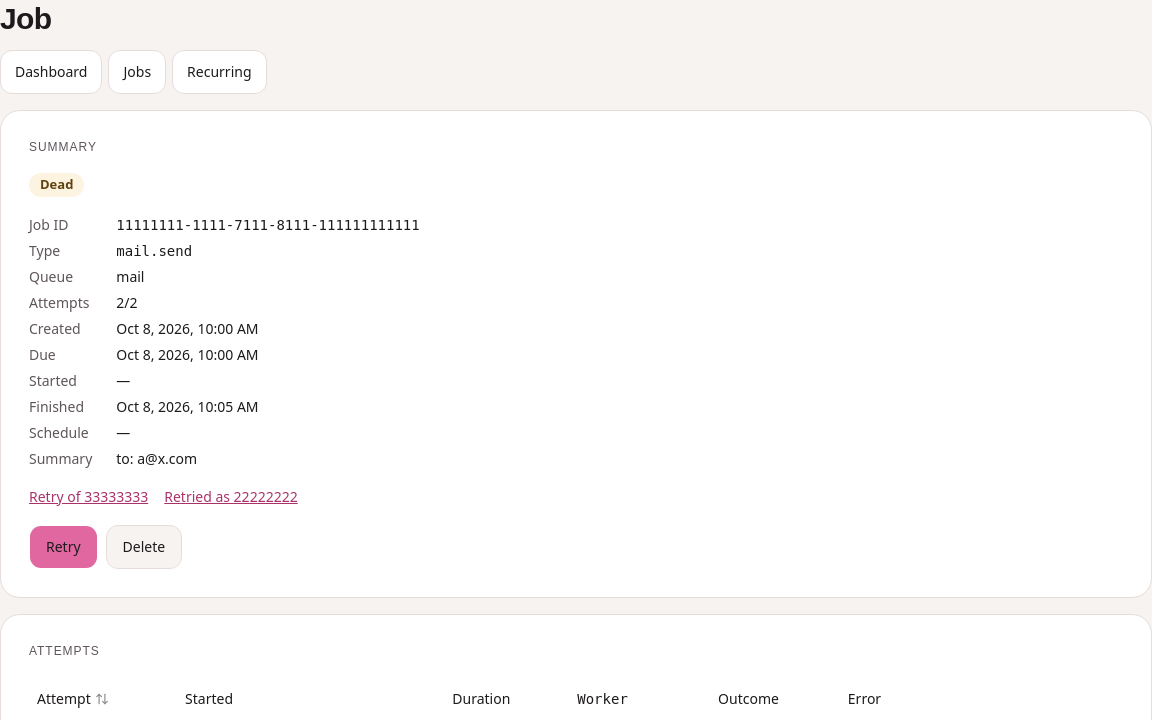
retries after confirmation and opens the new job
Click the button "Retry": (63, 546) x1=29 y1=524 x2=98 y2=568
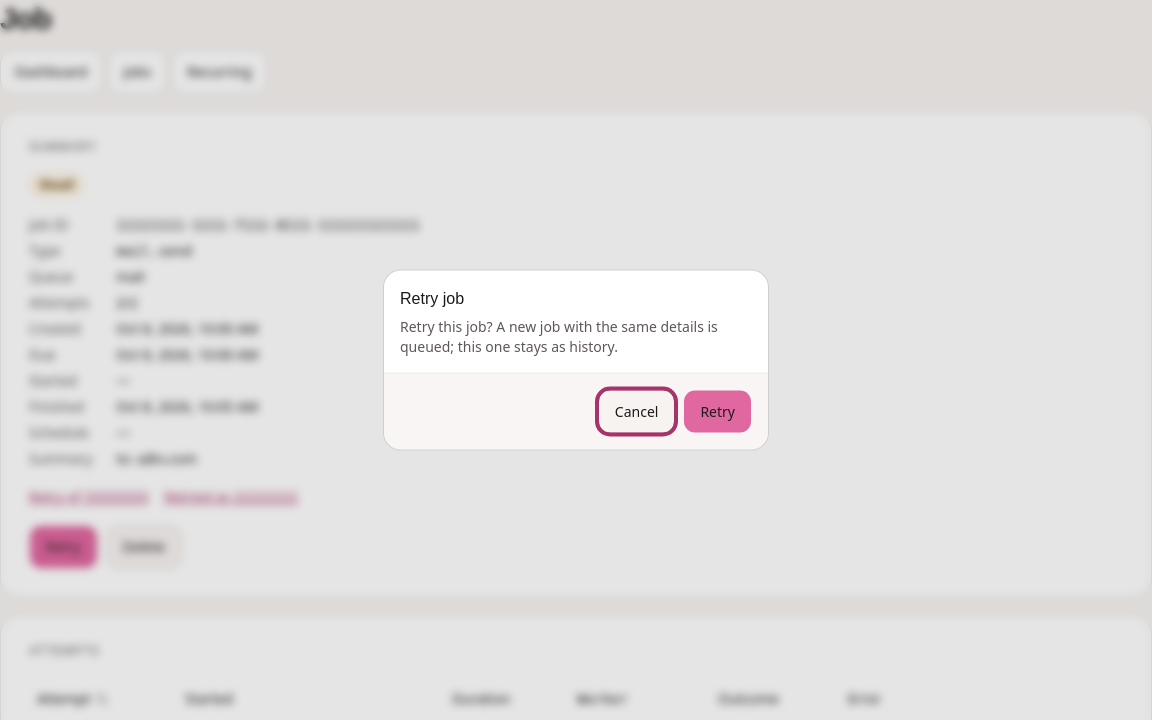
Result: the text "A new job with the same details is queued" is shown at x1=400 y1=316 x2=718 y2=356
Click the button "Retry": (718, 412) x1=683 y1=390 x2=752 y2=434
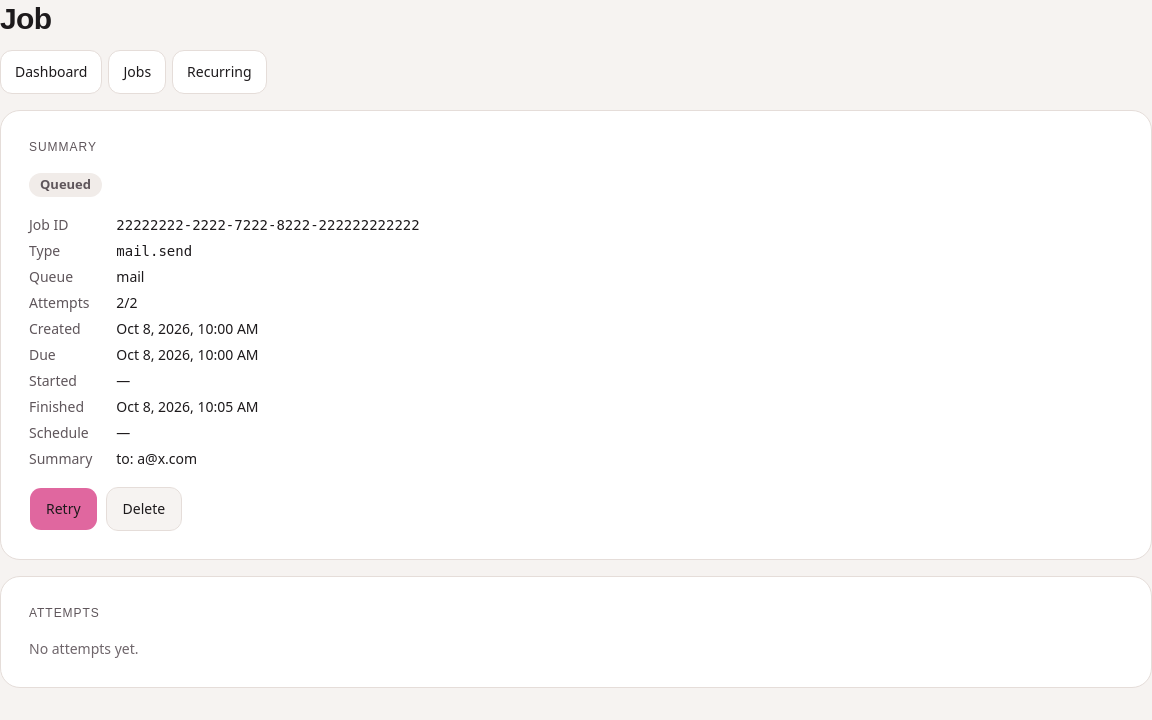
Result: the text "22222222-2222-7222-8222-222222222222" is shown at x1=116 y1=216 x2=420 y2=232
